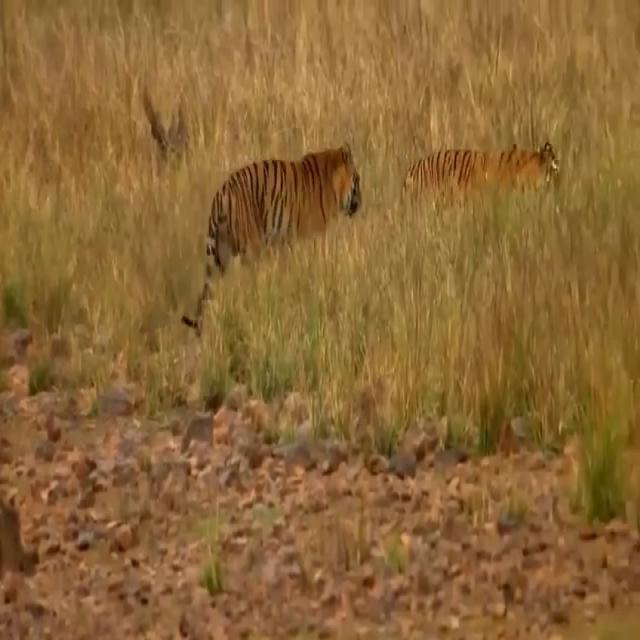tiger: (180, 138, 363, 342), (400, 140, 560, 214)
